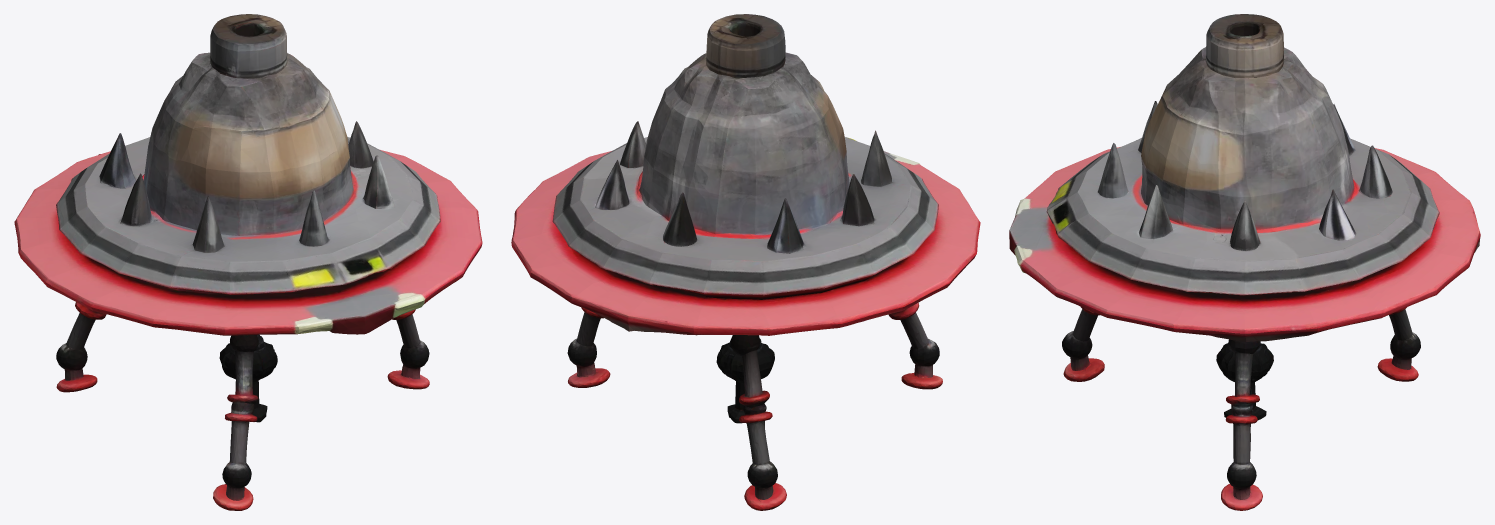
The model's file is partflow_t05.glb.
3 views of the same model, side by side, from view 1: azimuth 30°, elevation 25°; view 2: azimuth 150°, elevation 25°; view 3: azimuth 270°, elevation 25° (orthographic).
Parts seen in each view (by area): view 1: geometry_0; view 2: geometry_0; view 3: geometry_0.
Boxes of the visible parts, x1=… form: geometry_0: x1=14, y1=14, x2=482, y2=510; geometry_0: x1=511, y1=14, x2=980, y2=510; geometry_0: x1=1009, y1=14, x2=1480, y2=510.
Bounding box in the file's own units: 2 × 1.85 × 2.
1 material, 1 textured.
